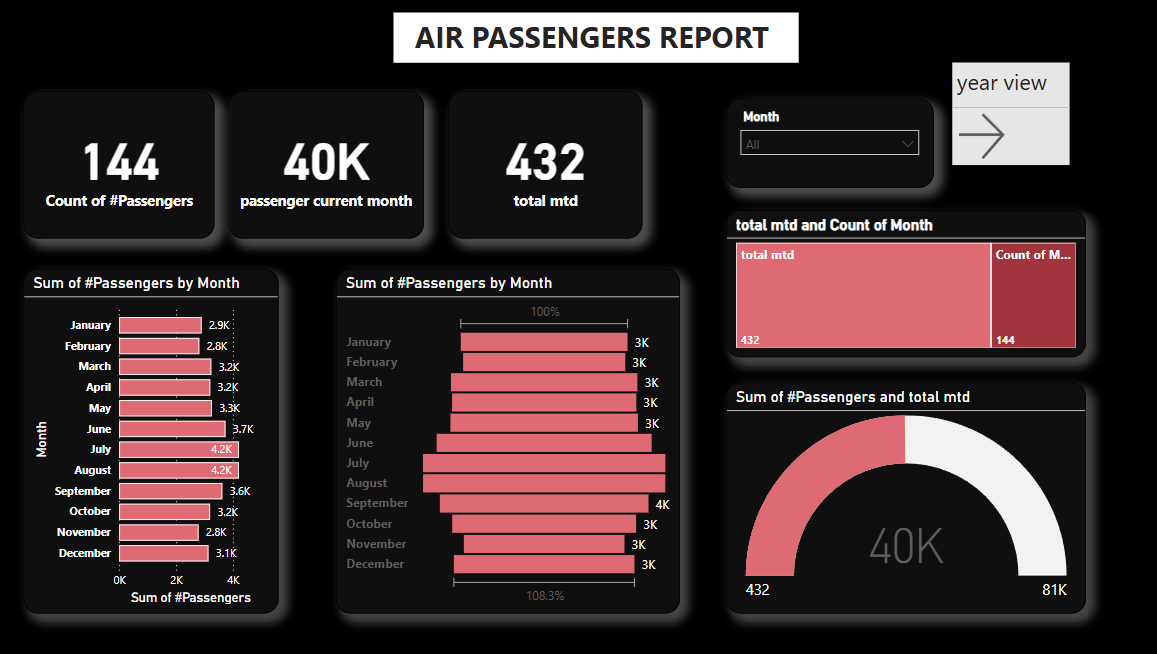

This screenshot's page, from the dashboard's own definition file:
{"tool":"powerbi","page":{"name":"MONTH VIEW ","canvas":[1280,720],"ordinal":0},"visuals":[{"type":"barChart","fields":{"Category":["AirPassengers.Month.Variation.Date Hierarchy.Month"],"Y":["Sum(AirPassengers.#Passengers)"]},"box":[30.2,295,279.9,378.7],"z":0},{"type":"card","fields":{"Values":["AirPassengers.total mtd"]},"box":[496.7,100.2,212.7,161.9],"z":1000},{"type":"card","fields":{"Values":["AirPassengers.passenger current month"]},"box":[255.2,100.2,214.1,161.9],"z":2000},{"type":"slicer","fields":{"Values":["AirPassengers.Month"]},"box":[801.4,108.4,227.8,97.4],"z":3000},{"type":"textbox","box":[436.4,13.7,444.6,54.9],"z":4000},{"type":"gauge","fields":{"Y":["Sum(AirPassengers.#Passengers)"],"MinValue":["AirPassengers.total mtd"]},"box":[801.4,419.9,395.2,253.9],"z":5000},{"type":"funnel","fields":{"Y":["Sum(AirPassengers.#Passengers)"],"Category":["AirPassengers.Month.Variation.Date Hierarchy.Month"]},"box":[373.2,295,377.4,378.7],"z":6000},{"type":"card","fields":{"Values":["CountNonNull(AirPassengers.#Passengers)"]},"box":[30.2,100.2,209.9,161.9],"z":7000},{"type":"treemap","fields":{"Values":["AirPassengers.total mtd","CountNonNull(AirPassengers.Month)"]},"box":[801.4,230.5,395.2,161.9],"z":8000},{"type":"actionButton","box":[1049.7,118,129,63.1],"z":9000},{"type":"textbox","box":[1049.7,68.6,129,49.4],"z":10000}]}

Visuals, with their boxes in screenshot pixels (x1, y1, x2, y2), scaled from the page's 1280x720 canvas onto the 1157x654 screenshot:
barChart - AirPassengers.Month.Variation.Date Hierarchy.Month x Sum(AirPassengers.#Passengers): x1=27, y1=268, x2=280, y2=612
card - AirPassengers.total mtd: x1=449, y1=91, x2=641, y2=238
card - AirPassengers.passenger current month: x1=231, y1=91, x2=424, y2=238
slicer - AirPassengers.Month: x1=724, y1=98, x2=930, y2=187
textbox: x1=394, y1=12, x2=796, y2=62
gauge - Sum(AirPassengers.#Passengers) x AirPassengers.total mtd: x1=724, y1=381, x2=1082, y2=612
funnel - Sum(AirPassengers.#Passengers) x AirPassengers.Month.Variation.Date Hierarchy.Month: x1=337, y1=268, x2=678, y2=612
card - CountNonNull(AirPassengers.#Passengers): x1=27, y1=91, x2=217, y2=238
treemap - AirPassengers.total mtd x CountNonNull(AirPassengers.Month): x1=724, y1=209, x2=1082, y2=356
actionButton: x1=949, y1=107, x2=1065, y2=164
textbox: x1=949, y1=62, x2=1065, y2=107
